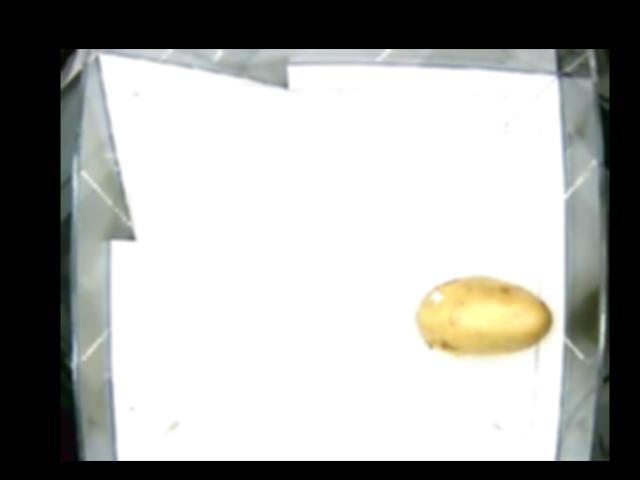Potato: (414, 278, 552, 352)
